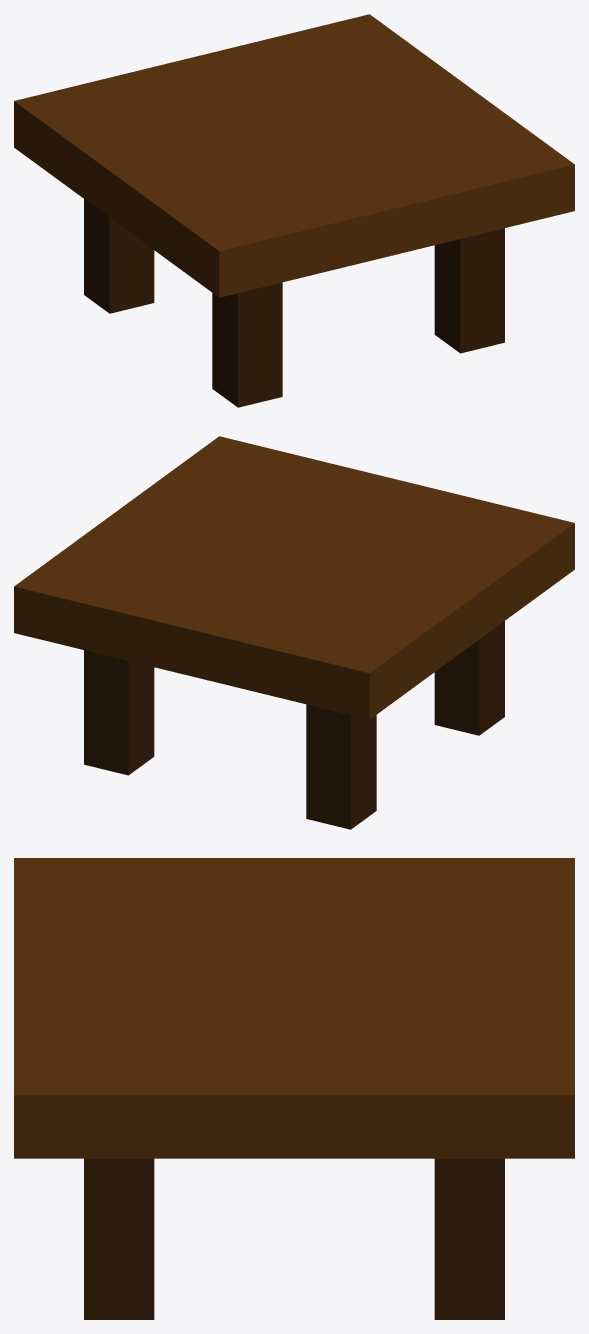
File: Table1_Low.fbx
The picture shows the model from 3 angles, top to bottom: view 1: azimuth 30°, elevation 25°; view 2: azimuth 150°, elevation 25°; view 3: azimuth 270°, elevation 25°; orthographic projection. The views are drawn at different scales.
Parts seen in each view (by area): view 1: Table1_Low; view 2: Table1_Low; view 3: Table1_Low.
Part boxes in pixels (x1=…): Table1_Low: x1=14, y1=14, x2=574, y2=407; Table1_Low: x1=14, y1=436, x2=574, y2=829; Table1_Low: x1=14, y1=858, x2=574, y2=1319.
Bounding box in the file's own units: 800 × 400 × 800.
